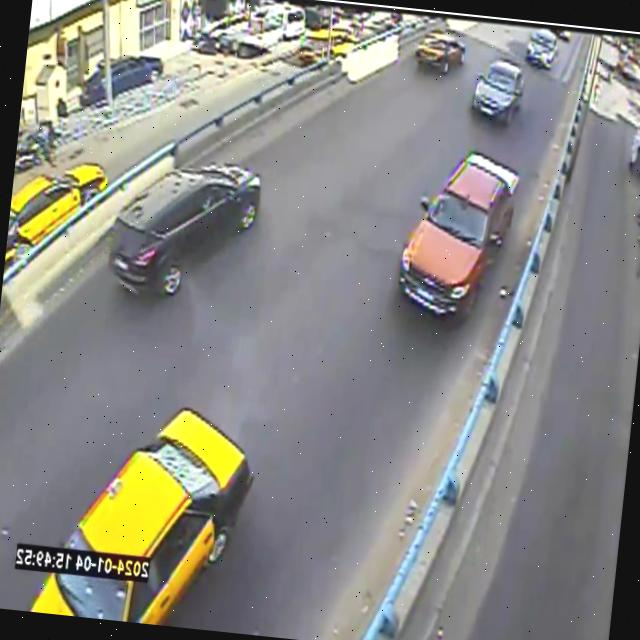car: (31, 408, 253, 624), (108, 161, 261, 294), (399, 153, 519, 321), (5, 163, 108, 265), (472, 61, 523, 124), (415, 31, 466, 74), (525, 29, 557, 69)
